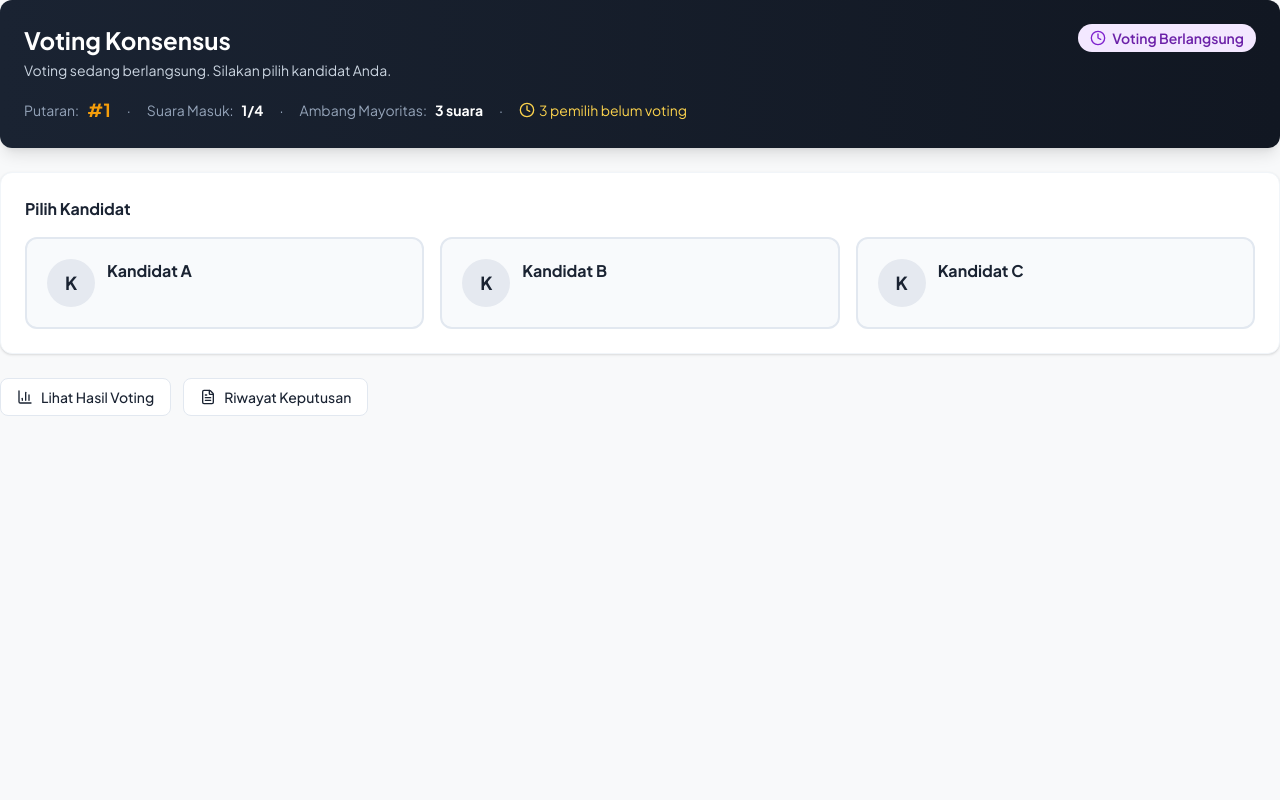
it: VotingPage › mengirim suara sekali dan menampilkan notifikasi sukses
The image size is (1280, 800).
Click the button "K Kandidat A". click: (71, 283)
box: 25,237 -> 424,329
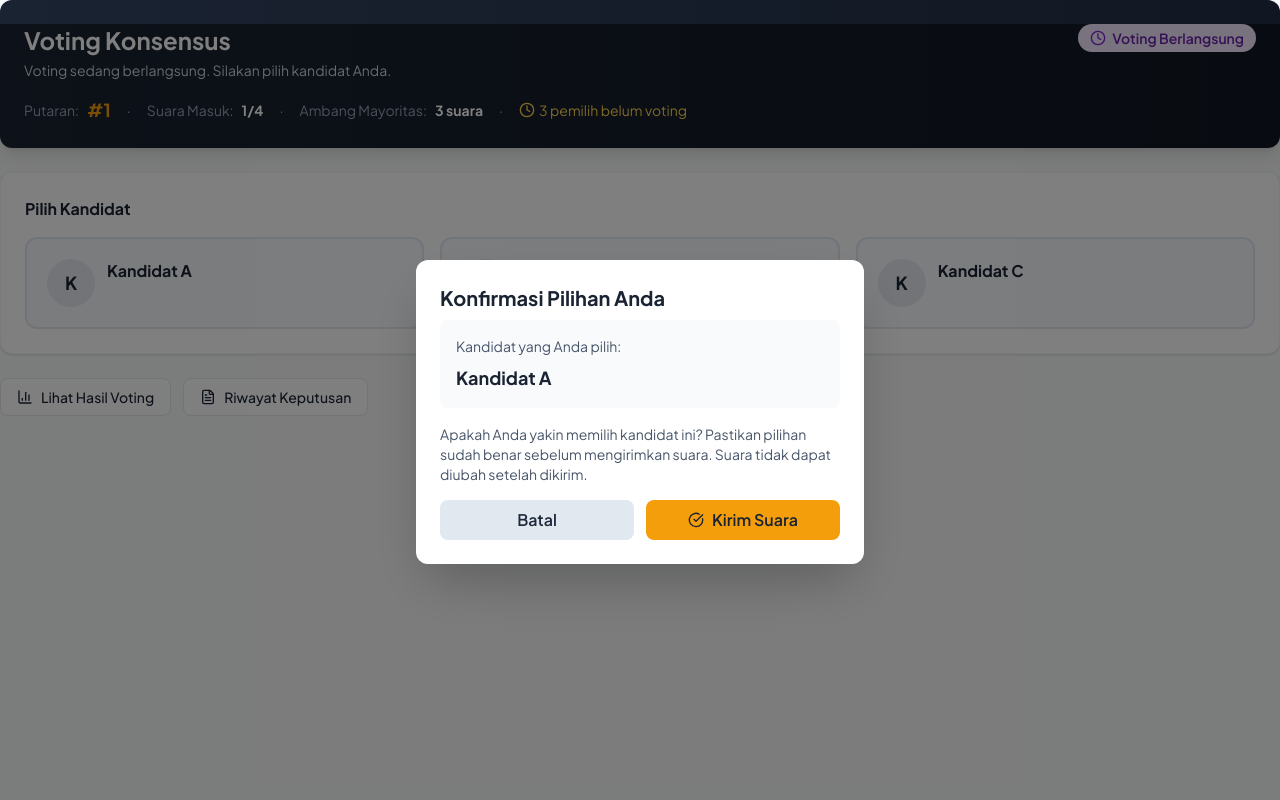
Click the button "Kirim Suara". click: (743, 520)
box: 646,500 -> 840,540
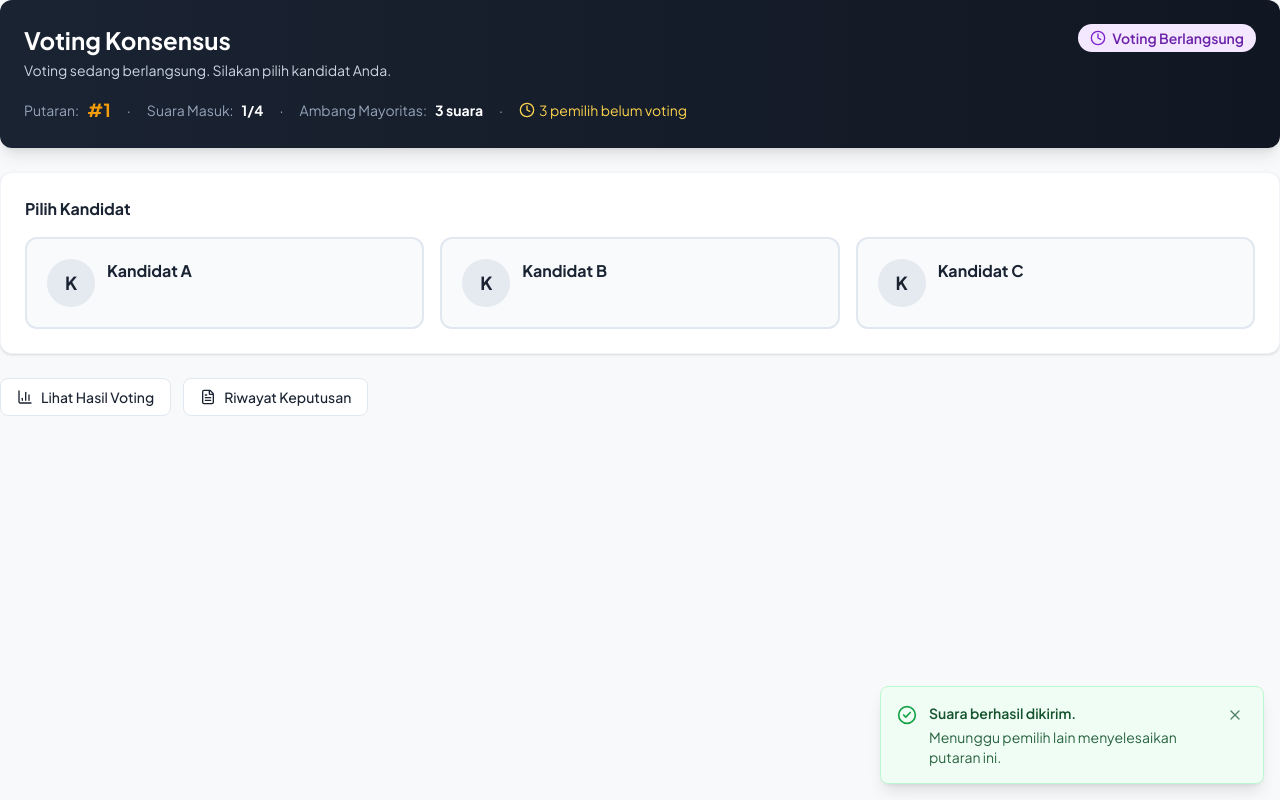
Expected: the text "Suara berhasil dikirim." is shown, 929,704 -> 1076,722
